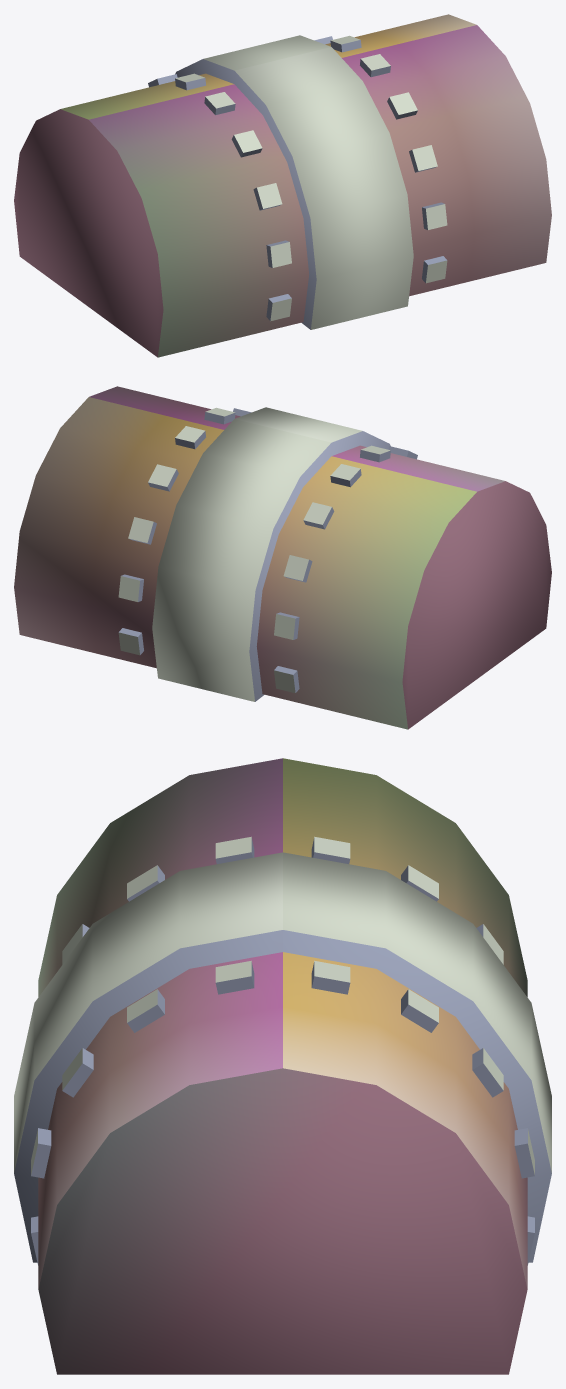
Rendered from Pipe.Union.glb.
3 renders of one model, top to bottom at view 1: azimuth 30°, elevation 25°; view 2: azimuth 150°, elevation 25°; view 3: azimuth 270°, elevation 25°, orthographic. The views are drawn at different scales.
Parts seen in each view (by area): view 1: Pipe.Union; view 2: Pipe.Union; view 3: Pipe.Union.
Part boxes in pixels (left/top/right/bottom): Pipe.Union: left=14, top=14, right=551, bottom=357; Pipe.Union: left=14, top=386, right=551, bottom=729; Pipe.Union: left=14, top=758, right=551, bottom=1374.
Size of the model in its own units: 3 by 1.5 by 2.2.
Materials: 1 (1 with a texture image).
